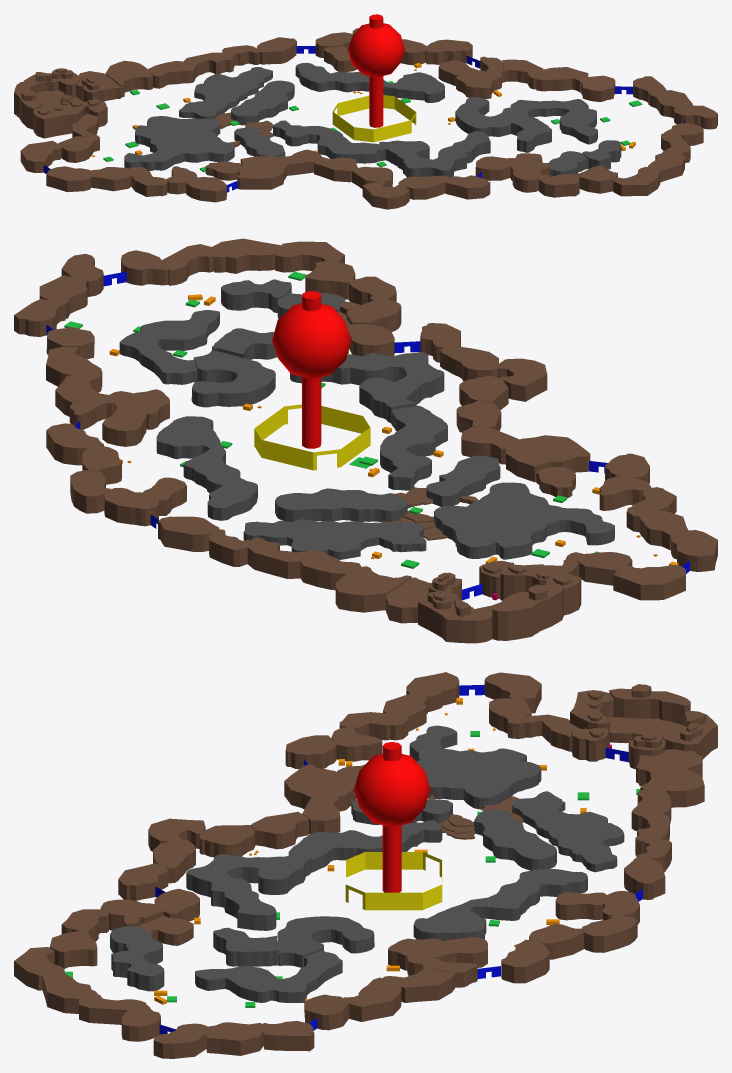
Rendered from MAPA_EXPORTADO_SEM_CHAO.obj.
3 views of the same model, one above another, from view 1: azimuth 30°, elevation 25°; view 2: azimuth 150°, elevation 25°; view 3: azimuth 270°, elevation 25° (orthographic). The views are drawn at different scales.
Visible parts, largest first — view 1: PolyShape (19), PolyShape (8), PolyShape (30), PolyShape (12), Sphere, PolyShape (29), PolyShape (51), PolyShape (6), PolyShape (86), PolyShape (11), PolyShape (41), PolyShape (1) (+46 smaller); view 2: PolyShape (19), PolyShape (8), PolyShape (12), PolyShape (30), Sphere, PolyShape (51), PolyShape (29), PolyShape (11), PolyShape (86), PolyShape (7), PolyShape (6), PolyShape (41) (+45 smaller); view 3: PolyShape (19), PolyShape (8), PolyShape (30), PolyShape (12), Sphere, PolyShape (51), PolyShape (7), PolyShape (86), PolyShape (29), PolyShape (11), PolyShape (1), PolyShape (41) (+46 smaller).
Part boxes in pixels (x1,y1,x2,y2): PolyShape (19): (35, 90, 239, 170); PolyShape (8): (24, 62, 444, 102); PolyShape (30): (377, 131, 490, 177); PolyShape (12): (21, 67, 272, 119); Sphere: (348, 23, 404, 77); PolyShape (29): (273, 120, 378, 163); PolyShape (51): (510, 99, 597, 144); PolyShape (6): (33, 32, 353, 138); PolyShape (86): (455, 97, 530, 136); PolyShape (11): (54, 80, 294, 125); PolyShape (41): (237, 156, 286, 189); PolyShape (1): (76, 60, 153, 101); PolyShape (19): (434, 482, 614, 614); PolyShape (8): (156, 416, 492, 643); PolyShape (12): (243, 519, 547, 600); PolyShape (30): (290, 352, 444, 422); Sphere: (272, 303, 351, 379); PolyShape (51): (119, 310, 219, 384); PolyShape (29): (380, 405, 447, 490); PolyShape (11): (275, 488, 549, 579); PolyShape (86): (191, 350, 275, 407); PolyShape (7): (143, 477, 563, 640); PolyShape (6): (104, 487, 581, 615); PolyShape (41): (506, 435, 590, 482); PolyShape (19): (409, 717, 684, 809); PolyShape (8): (413, 711, 717, 941); PolyShape (30): (186, 851, 311, 930); PolyShape (12): (512, 684, 651, 872); Sphere: (353, 754, 430, 827); PolyShape (51): (195, 950, 342, 1002); PolyShape (7): (555, 688, 690, 920); PolyShape (86): (277, 916, 374, 967); PolyShape (29): (288, 820, 442, 872); PolyShape (11): (474, 700, 600, 870); PolyShape (1): (628, 739, 704, 807); PolyShape (41): (284, 764, 356, 811).
Bounding box in the file's own units: 457 × 83.58 × 366.
